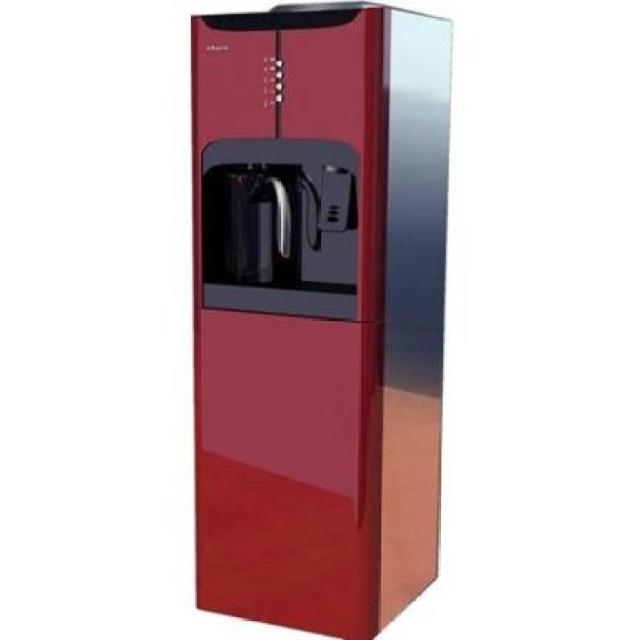cooler: (189, 1, 453, 640)
